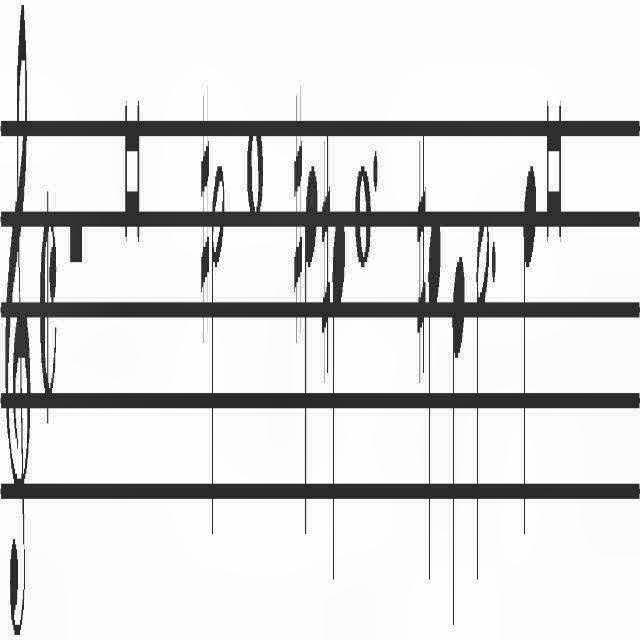Bass-clef: (3, 0, 35, 640)
Diez: (416, 128, 428, 392), (200, 72, 210, 344), (293, 80, 303, 344), (321, 118, 331, 380)
Full-note: (354, 160, 372, 280), (247, 116, 265, 222)
Half-note: (210, 150, 226, 546), (474, 200, 490, 596)
Quarter-note: (521, 152, 537, 552), (426, 210, 442, 602), (450, 248, 466, 638), (330, 210, 346, 596), (305, 148, 319, 552)
